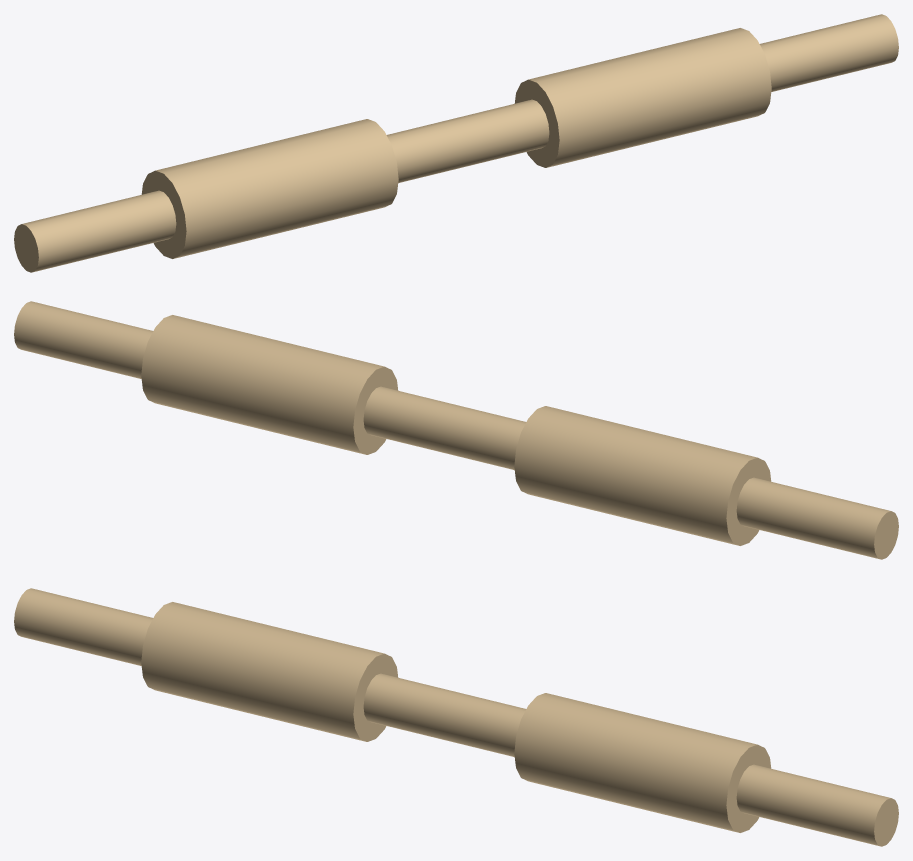
Rendered from bails.glb.
The picture shows the model from 3 angles, top to bottom: view 1: azimuth 30°, elevation 25°; view 2: azimuth 150°, elevation 25°; view 3: azimuth 330°, elevation 25°; orthographic projection.
Parts seen in each view (by area): view 1: bail-pair; view 2: bail-pair; view 3: bail-pair.
Boxes of the visible parts, <box> form: bail-pair: <box>14,14,898,272</box>; bail-pair: <box>14,301,898,559</box>; bail-pair: <box>14,588,898,846</box>.
Bounding box in the file's own units: 0.219 × 0.02 × 0.02.
